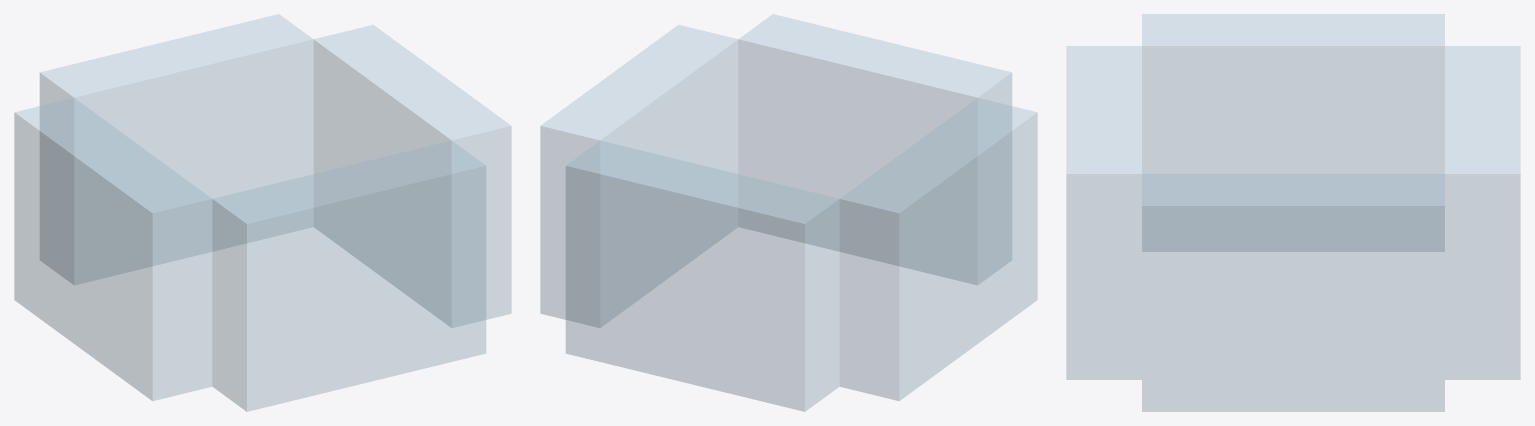
Rendered from lighthouse-glass.gltf.
The picture shows the model from 3 angles, left to right: view 1: azimuth 30°, elevation 25°; view 2: azimuth 150°, elevation 25°; view 3: azimuth 270°, elevation 25°; orthographic projection. The views are drawn at different scales.
Visible parts, largest first — view 1: lighthouse-glass; view 2: lighthouse-glass; view 3: lighthouse-glass.
Part boxes in pixels (x1,y1,x2,y2): lighthouse-glass: [14, 14, 511, 411]; lighthouse-glass: [540, 14, 1037, 411]; lighthouse-glass: [1066, 14, 1520, 411].
Bounding box in the file's own units: 3 × 1.5 × 3.
